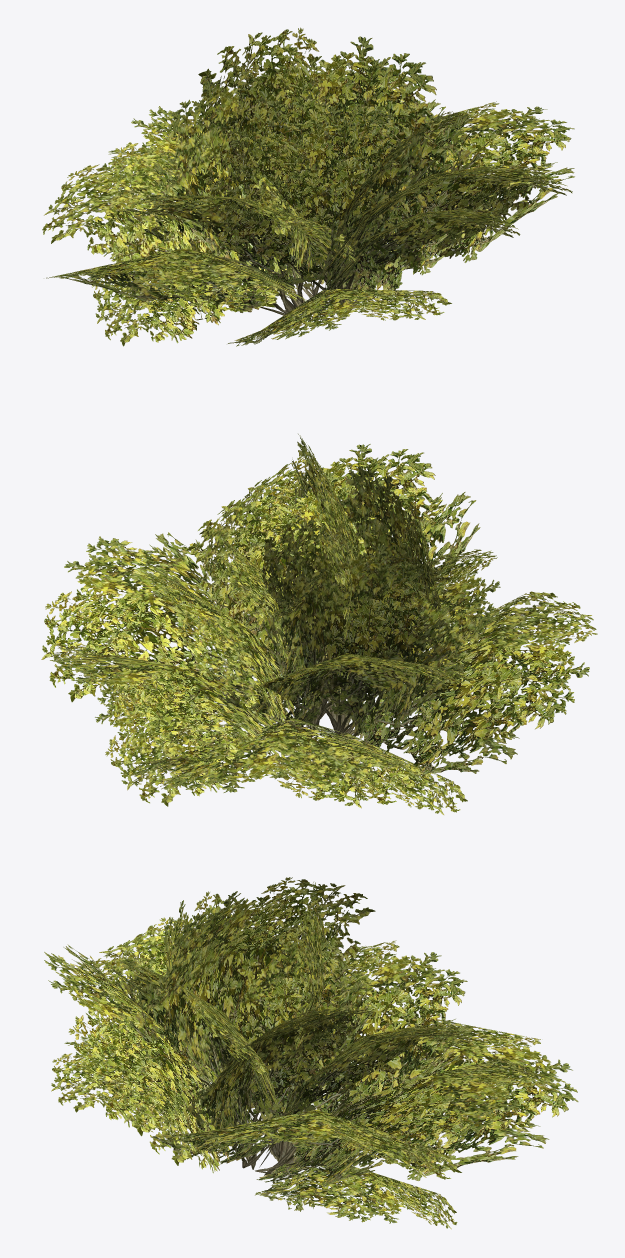
File: Model_Plant_14.fbx
The picture shows the model from 3 angles, top to bottom: view 1: azimuth 30°, elevation 25°; view 2: azimuth 150°, elevation 25°; view 3: azimuth 270°, elevation 25°; orthographic projection. The views are drawn at different scales.
Parts seen in each view (by area): view 1: Fig; view 2: Fig; view 3: Fig.
Boxes of the visible parts, x1=… form: Fig: x1=42, y1=27, x2=574, y2=346; Fig: x1=41, y1=434, x2=597, y2=814; Fig: x1=44, y1=877, x2=578, y2=1229.
Bounding box in the file's own units: 202 × 120 × 186.
